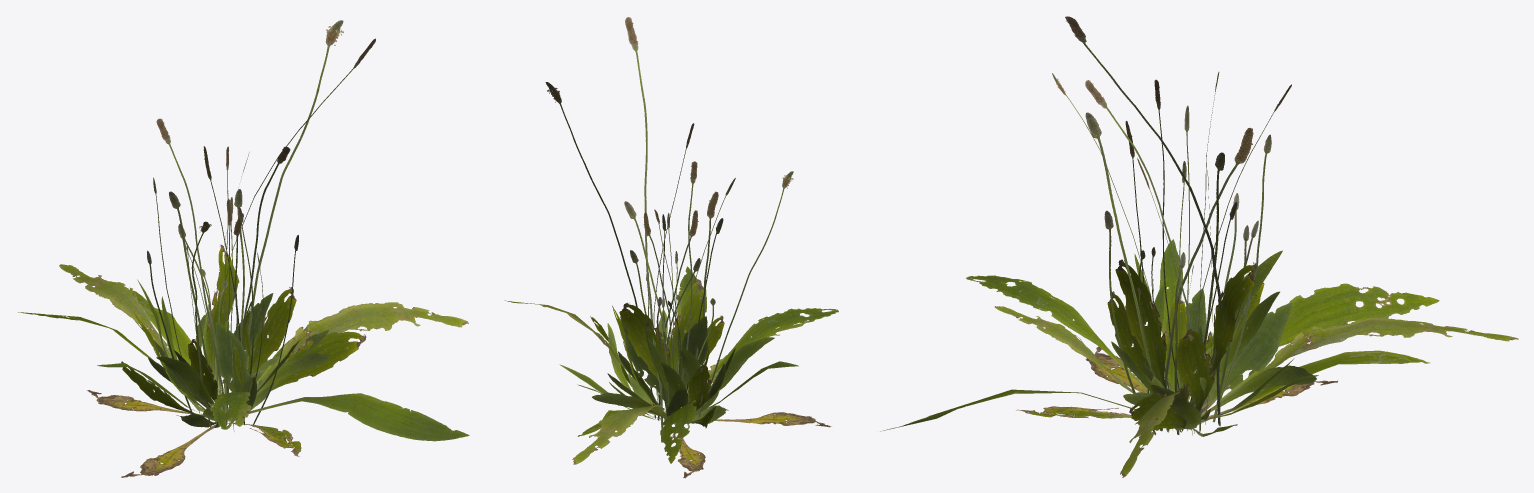
Rendered from Weed_04_Var3_LOD0.fbx.
3 views of the same model, side by side, from view 1: azimuth 30°, elevation 25°; view 2: azimuth 150°, elevation 25°; view 3: azimuth 270°, elevation 25° (orthographic). The views are drawn at different scales.
Visible parts, largest first — view 1: Var3_LOD0; view 2: Var3_LOD0; view 3: Var3_LOD0.
Part boxes in pixels (x1=…): Var3_LOD0: x1=18, y1=20, x2=469, y2=477; Var3_LOD0: x1=504, y1=17, x2=838, y2=478; Var3_LOD0: x1=880, y1=16, x2=1518, y2=477.
Size of the model in its own units: 50.97 by 53.76 by 66.17.
